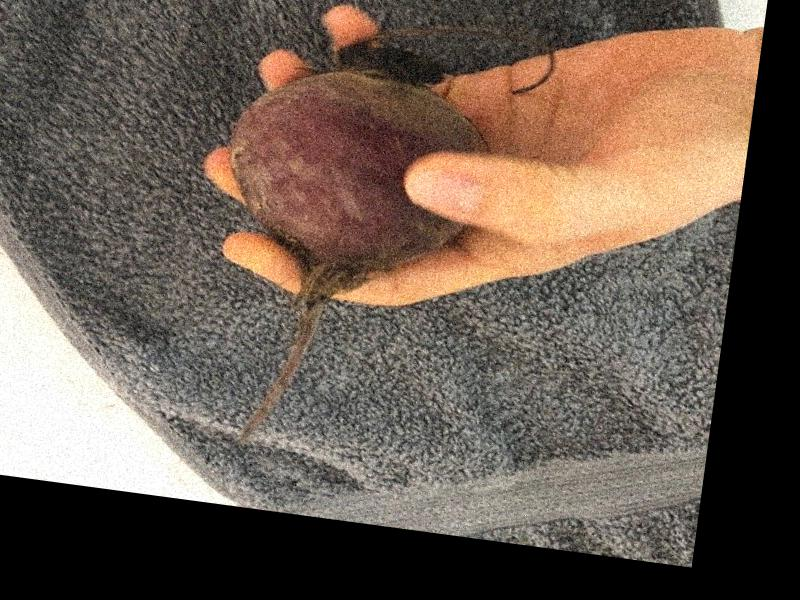Beet: (189, 29, 502, 474)
